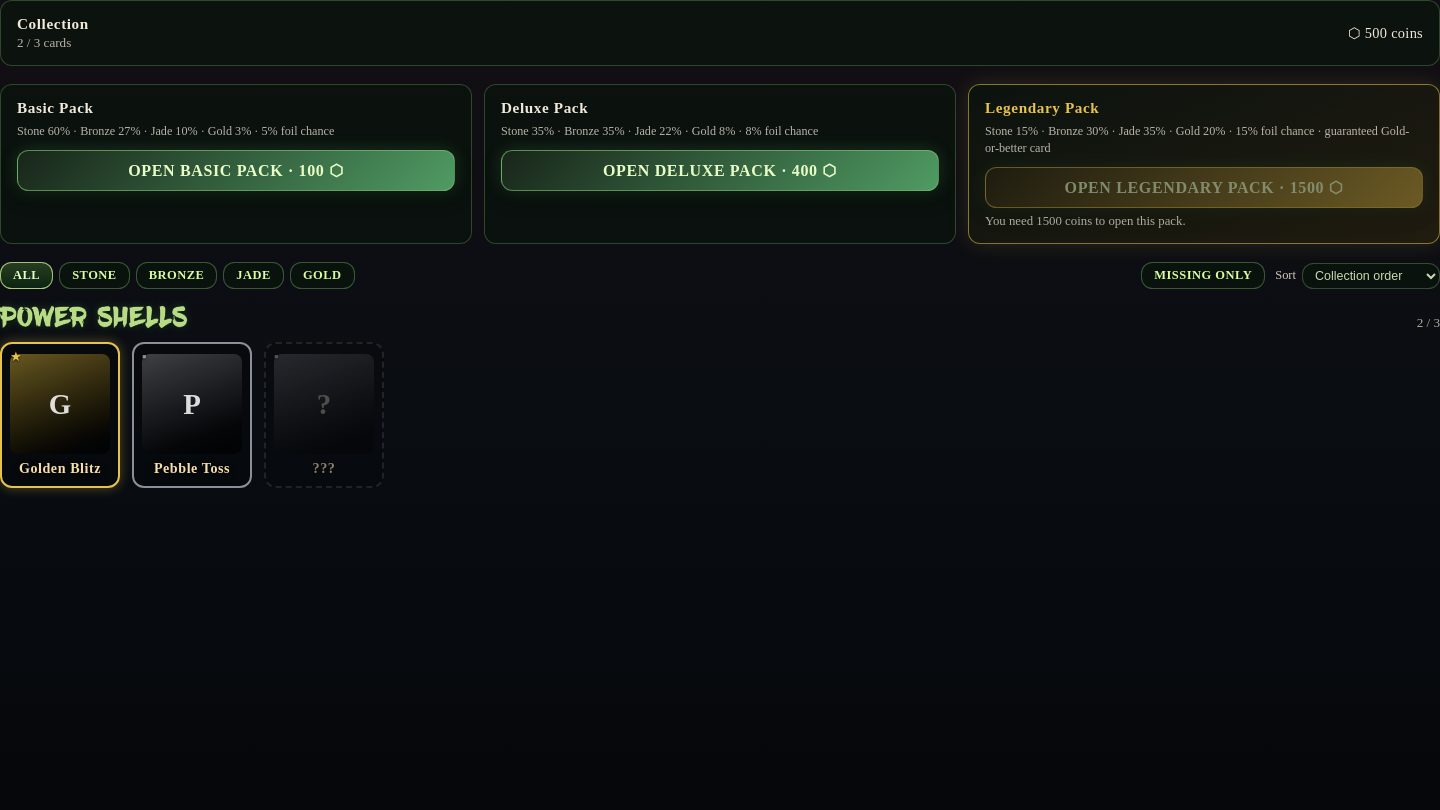
it: ShellCardsModal pack-open error handling › should keep the reveal and not show the purchase-failure message when only the binder refresh fails
The image size is (1440, 810).
Expected: the text "Golden Blitz" is shown, [19,460,101,476]
Click the button "Open Basic Pack · 100 ⬡": (236, 170) [17,150,455,191]
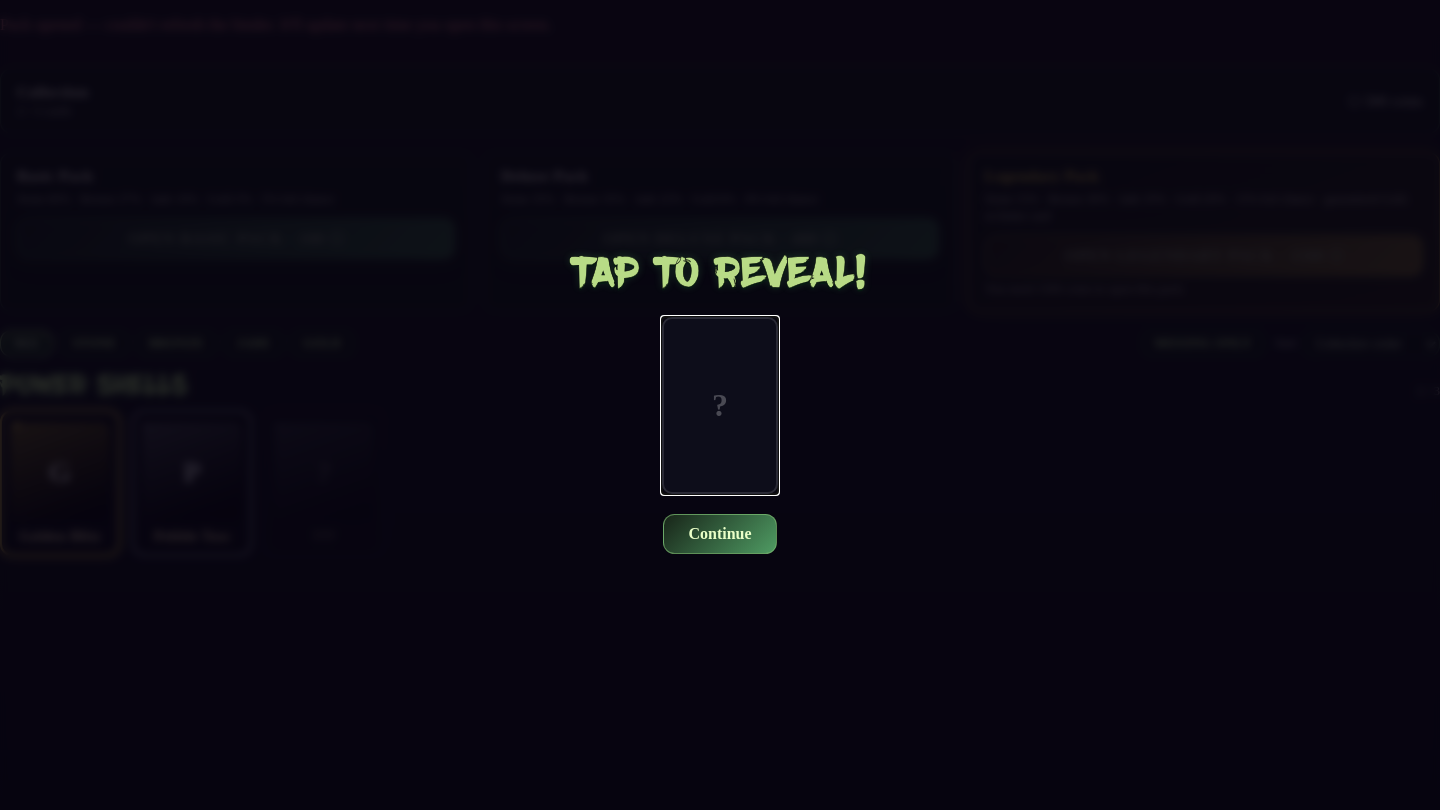
Now the dialog is shown
